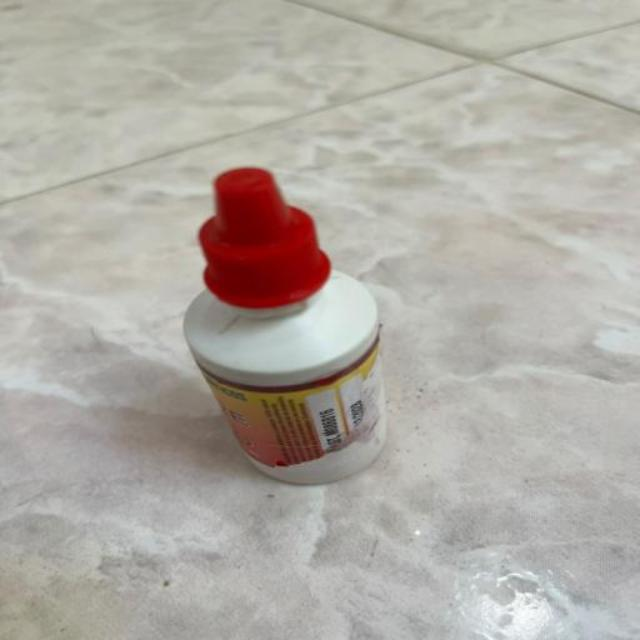HDPE: (155, 142, 452, 540)
